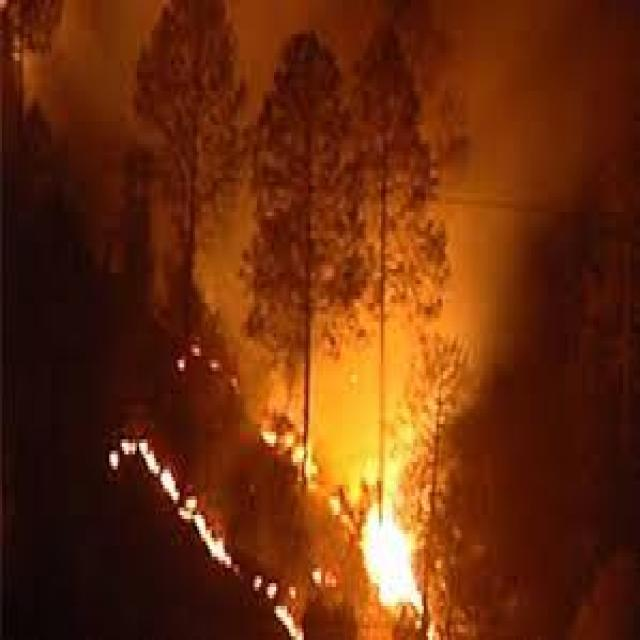Fire: (350, 490, 450, 635), (157, 465, 235, 577), (258, 412, 330, 498), (109, 432, 166, 477), (272, 603, 308, 640), (249, 569, 283, 600), (190, 334, 206, 368), (176, 350, 187, 377)
